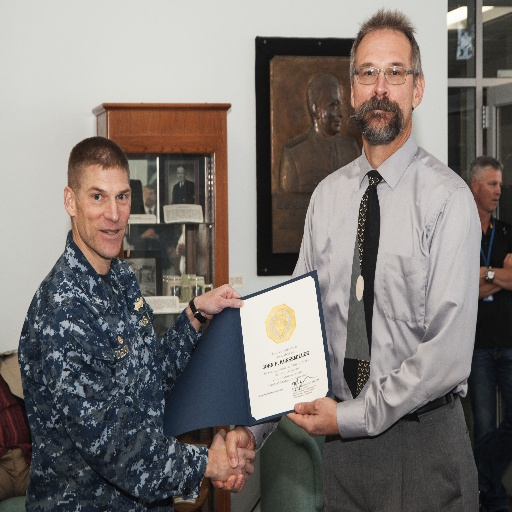hand: (210, 423, 257, 494), (207, 428, 256, 487), (187, 286, 242, 333), (284, 395, 337, 438), (478, 266, 488, 289), (501, 251, 511, 268)
